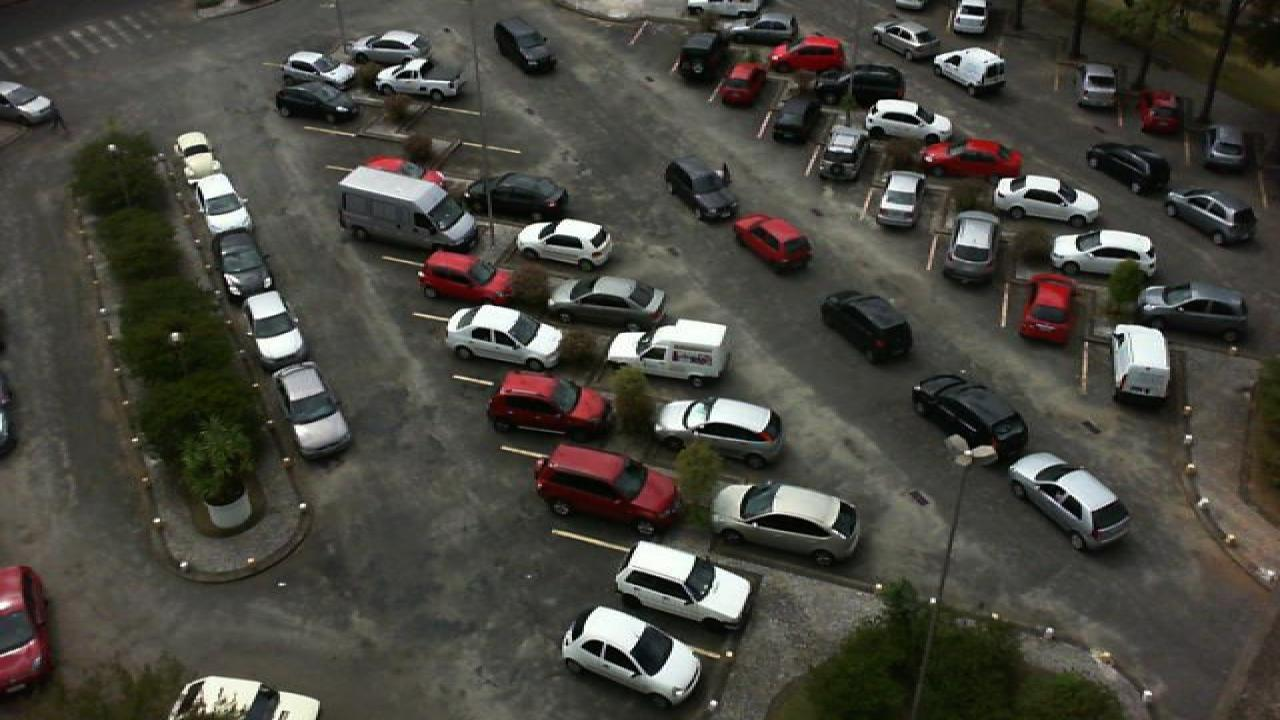Car: (560, 605, 708, 711), (614, 540, 752, 641), (534, 442, 682, 536), (708, 479, 860, 565), (1008, 451, 1132, 554), (908, 373, 1032, 464), (652, 396, 786, 468), (484, 372, 612, 440), (442, 302, 564, 370), (272, 361, 354, 459), (0, 564, 58, 698), (1134, 281, 1254, 343), (168, 675, 324, 720), (546, 271, 670, 327), (820, 289, 912, 362), (1160, 189, 1260, 250), (416, 250, 524, 306), (994, 171, 1102, 227), (240, 289, 312, 369), (1050, 229, 1158, 282), (662, 156, 740, 223), (728, 210, 812, 272), (516, 216, 614, 269), (466, 170, 568, 220), (1082, 140, 1172, 194), (1016, 271, 1080, 345), (942, 208, 1002, 284), (862, 97, 954, 146), (920, 138, 1026, 180), (214, 230, 278, 298), (192, 174, 256, 238), (376, 58, 466, 102), (492, 18, 560, 75), (868, 168, 928, 230), (274, 81, 366, 120), (766, 34, 850, 73), (812, 123, 868, 181), (830, 62, 908, 103), (354, 156, 462, 184), (870, 20, 942, 61), (766, 93, 826, 142), (348, 28, 428, 64), (714, 58, 772, 107), (1202, 122, 1256, 174), (1130, 89, 1188, 136), (174, 130, 224, 184), (676, 33, 728, 83), (282, 50, 354, 86), (1074, 61, 1124, 110), (730, 14, 800, 42), (950, 0, 994, 35)
